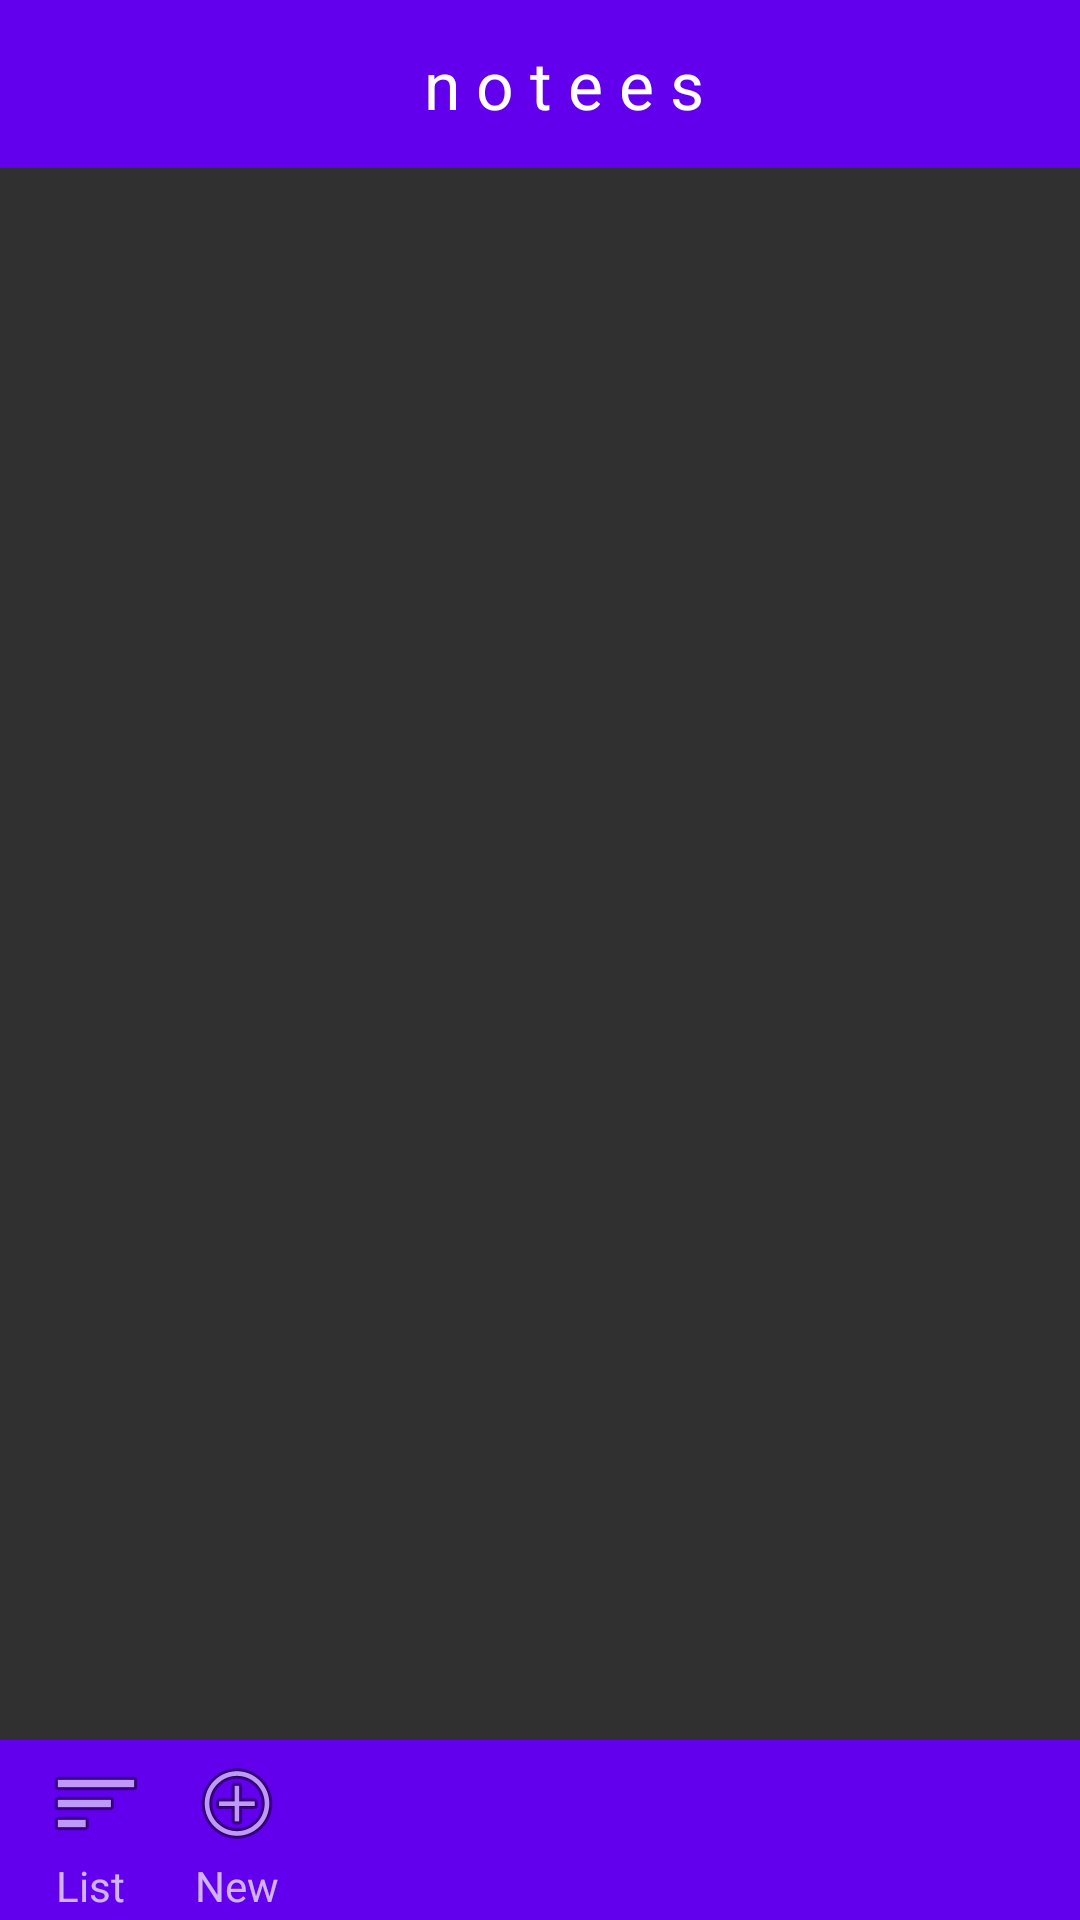

Named icons in this screenshot (1080w x 1920h) and their bounding boxes, rect(x1, y1, x2, y2):
add: rect(201, 1768, 273, 1839)
sort by size: rect(55, 1777, 137, 1830)
